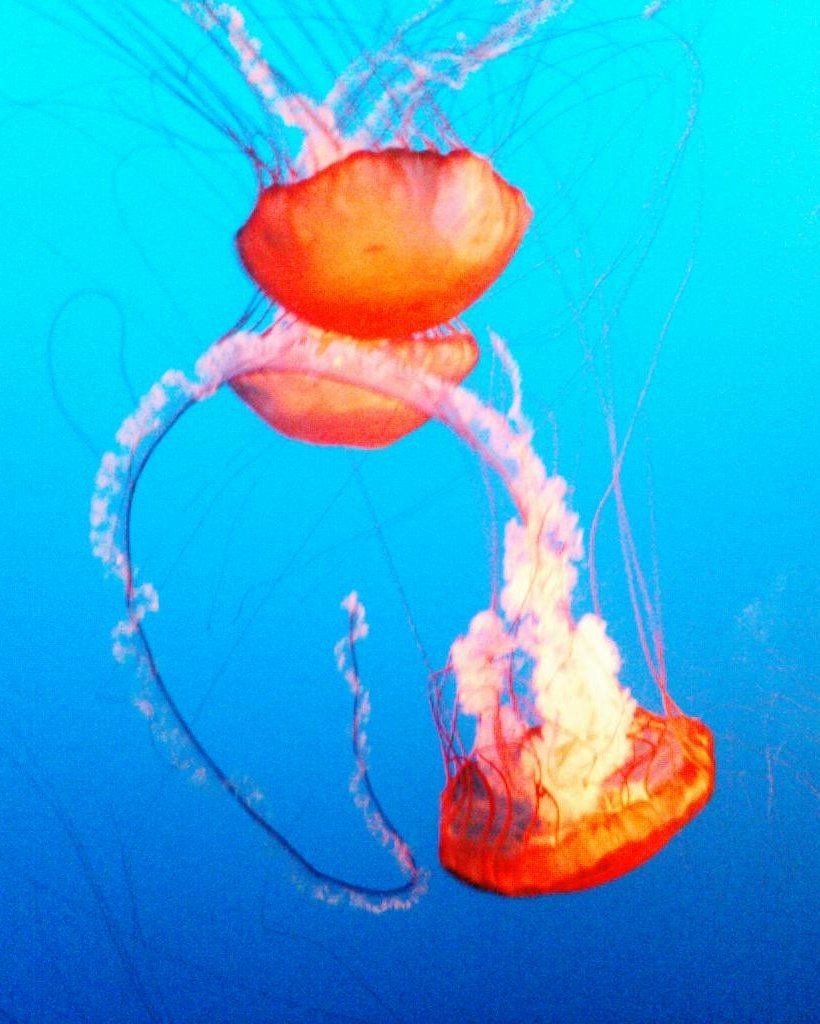Jellyfish: (91, 325, 724, 894), (0, 0, 706, 339), (210, 0, 488, 465)
